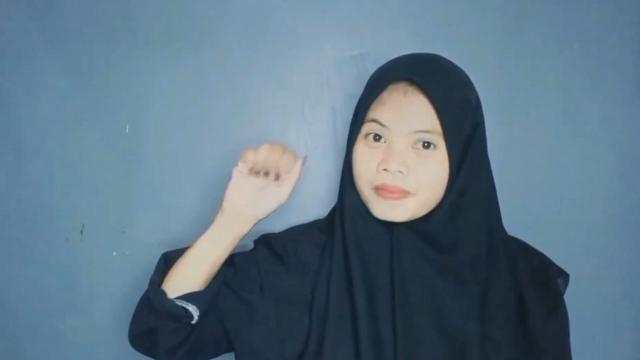A: (221, 141, 311, 219)
